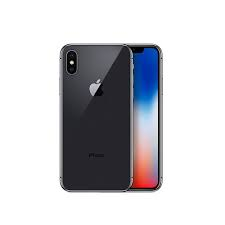iphone: (55, 40, 164, 192)
iphone10: (55, 40, 164, 192)
